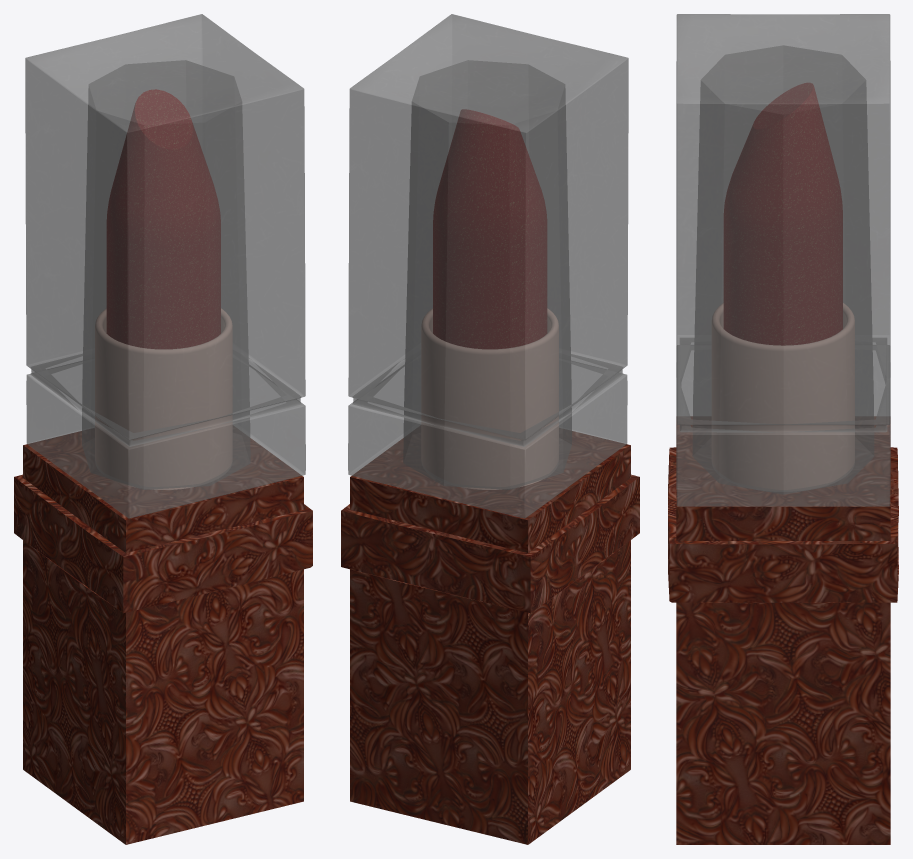
Rendered from lipstick1.gltf.
3 renders of one model, left to right at view 1: azimuth 30°, elevation 25°; view 2: azimuth 150°, elevation 25°; view 3: azimuth 270°, elevation 25°, orthographic. The views are drawn at different scales.
Parts seen in each view (by area): view 1: top.001; view 2: top.001; view 3: top.001.
Part boxes in pixels (x1,y1,x2,y2): top.001: [14, 14, 312, 844]; top.001: [341, 14, 639, 844]; top.001: [668, 14, 898, 844].
Bounding box in the file's own units: 0.5425 × 1.92 × 0.5425.
Materials: 4 (4 with a texture image).
